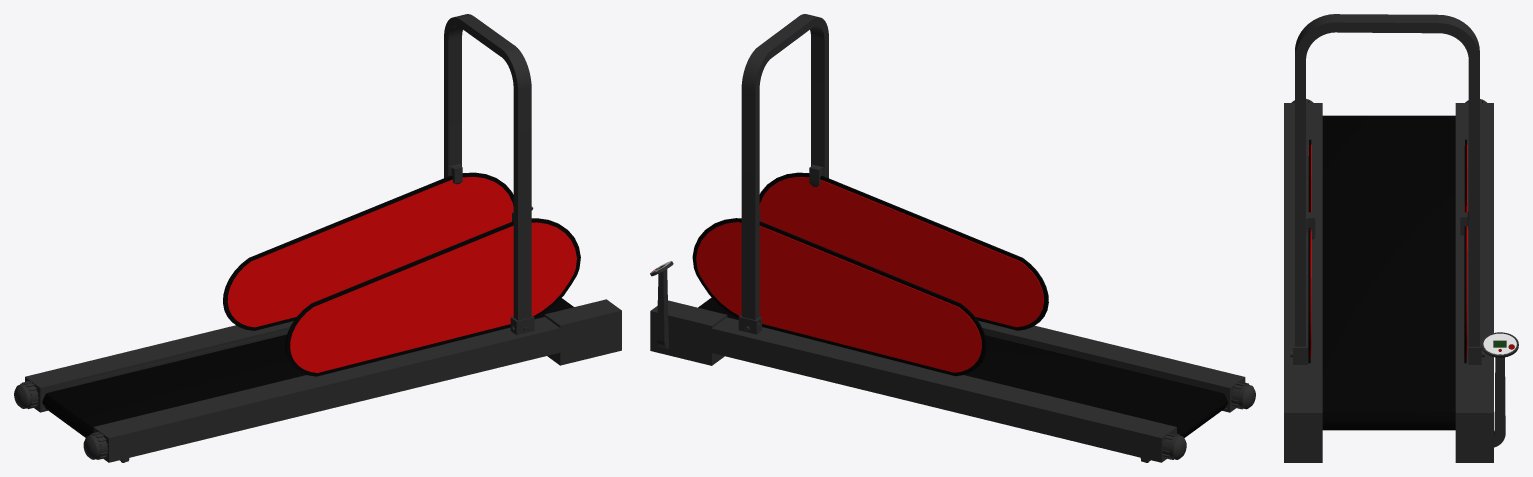
File: TreadMillV2.fbx
3 views of the same model, side by side, from view 1: azimuth 30°, elevation 25°; view 2: azimuth 150°, elevation 25°; view 3: azimuth 270°, elevation 25° (orthographic). The views are drawn at different scales.
Visible parts, largest first — view 1: Circle.002; view 2: Circle.002; view 3: Circle.002.
Part boxes in pixels (box(x1,y1,x2,y2)): Circle.002: box(14, 14, 621, 462); Circle.002: box(650, 14, 1255, 462); Circle.002: box(1284, 14, 1518, 462).
Size of the model in its own units: 8759 by 4926 by 2699.
